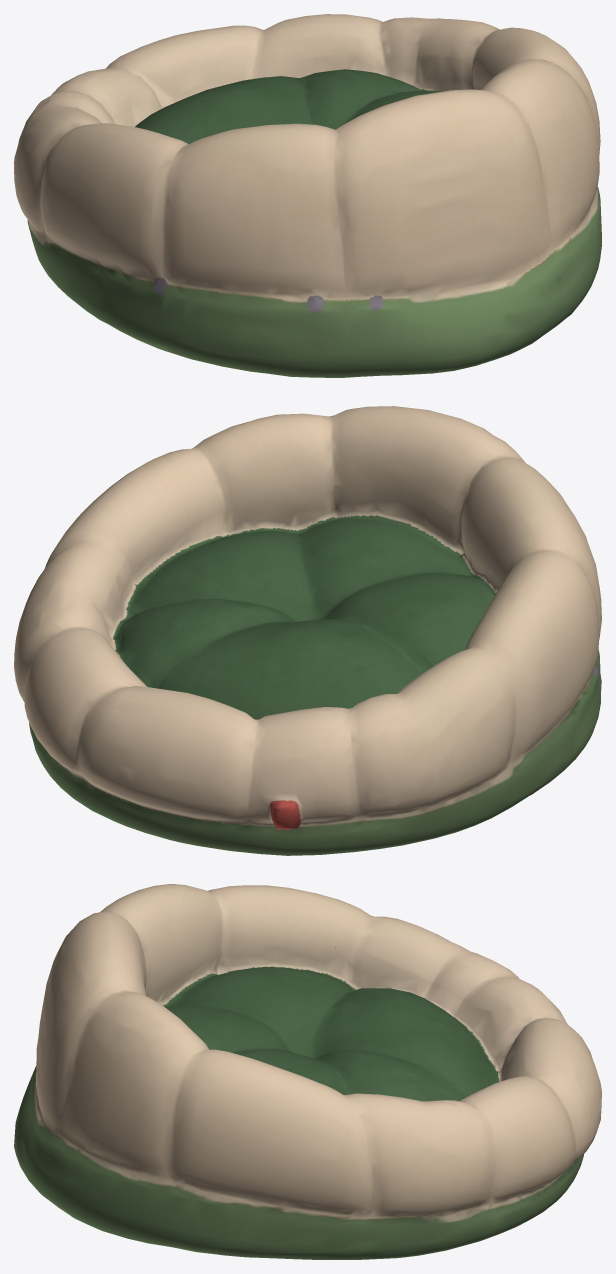
The model's file is cushion_bed.glb.
The picture shows the model from 3 angles, top to bottom: view 1: azimuth 30°, elevation 25°; view 2: azimuth 150°, elevation 25°; view 3: azimuth 270°, elevation 25°; orthographic projection. The views are drawn at different scales.
Visible parts, largest first — view 1: cushion_bed; view 2: cushion_bed; view 3: cushion_bed.
Part boxes in pixels (bbox=[...]): cushion_bed: bbox=[14, 14, 601, 377]; cushion_bed: bbox=[14, 406, 601, 855]; cushion_bed: bbox=[14, 884, 601, 1259].
Size of the model in its own units: 0.8631 by 0.4125 by 0.9407.
Materials: 1 (1 with a texture image).
